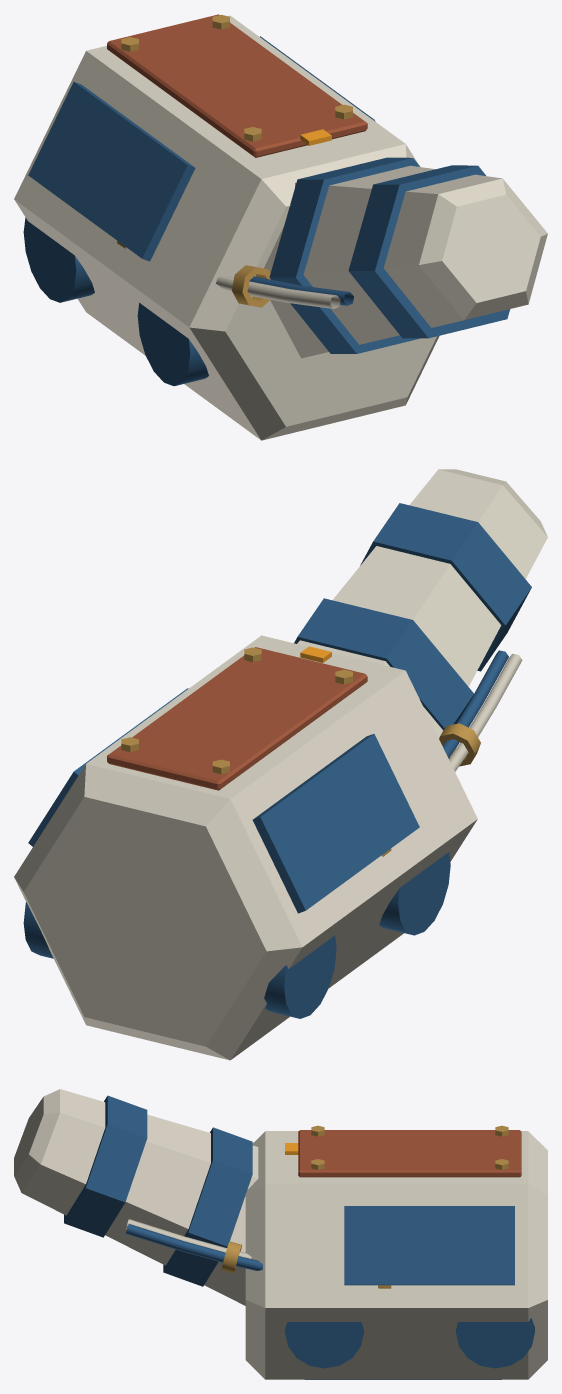
File: rm2_thorax.obj
3 views of the same model, one above another, from view 1: azimuth 30°, elevation 25°; view 2: azimuth 150°, elevation 25°; view 3: azimuth 270°, elevation 25° (orthographic). The views are drawn at different scales.
Visible parts, largest first — view 1: rm2_thorax; view 2: rm2_thorax; view 3: rm2_thorax.
Boxes of the visible parts, x1,y1,x2,y2 form: rm2_thorax: [14, 14, 547, 440]; rm2_thorax: [14, 469, 547, 1060]; rm2_thorax: [14, 1089, 547, 1379].
Size of the model in its own units: 0.38 by 0.436 by 0.8125.
